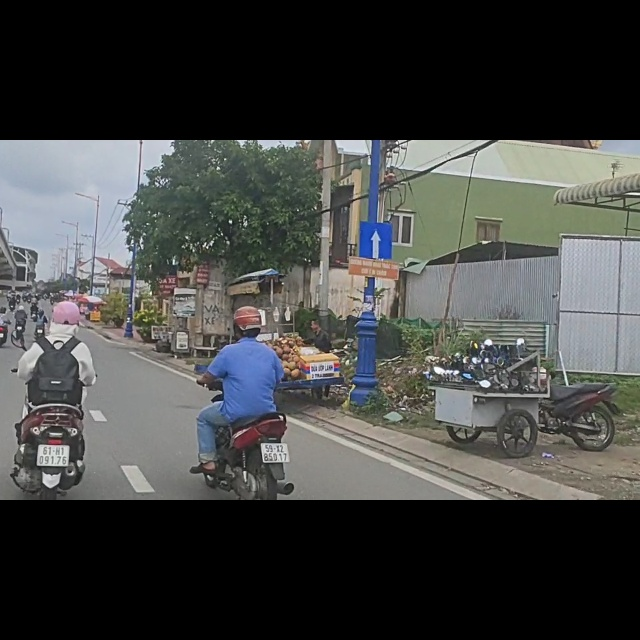bien_chi_dan: (359, 145, 393, 211)
